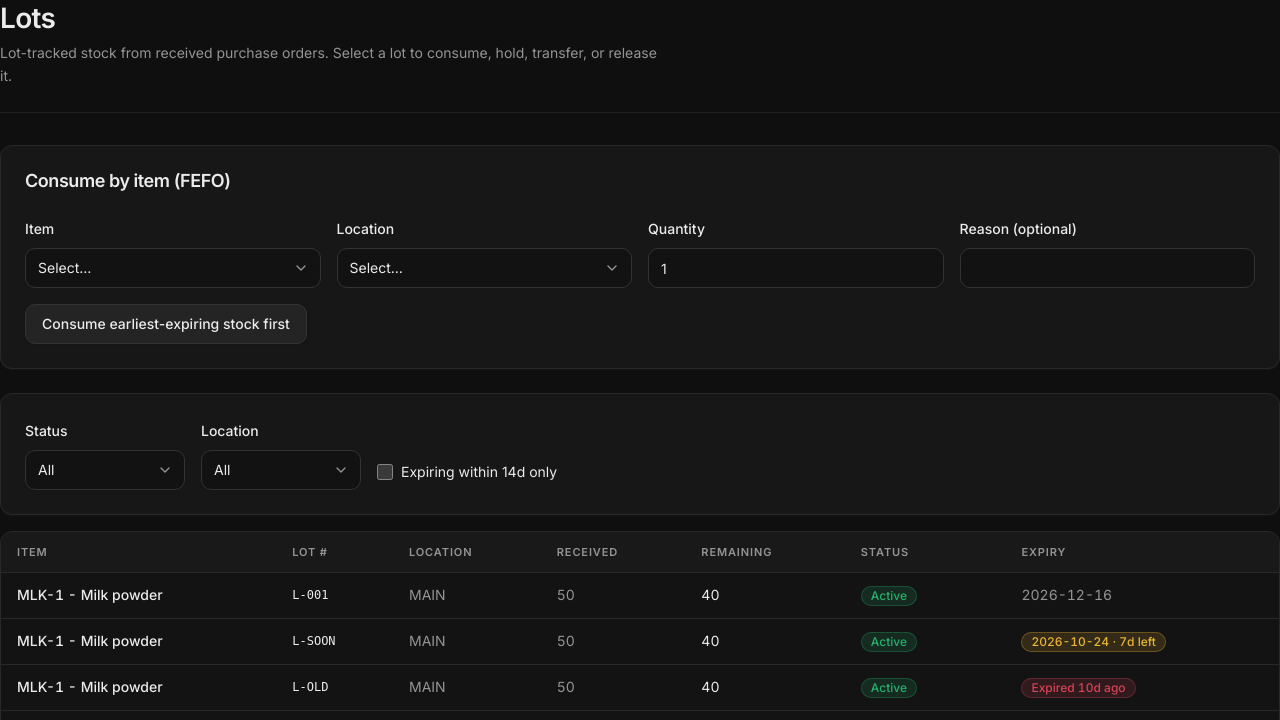
Test case: Lots › opens a lot and shows its header and transactions
Step 1. Click the text "L-001" → (310, 595), box [276,572,393,618]
(page scrolled)
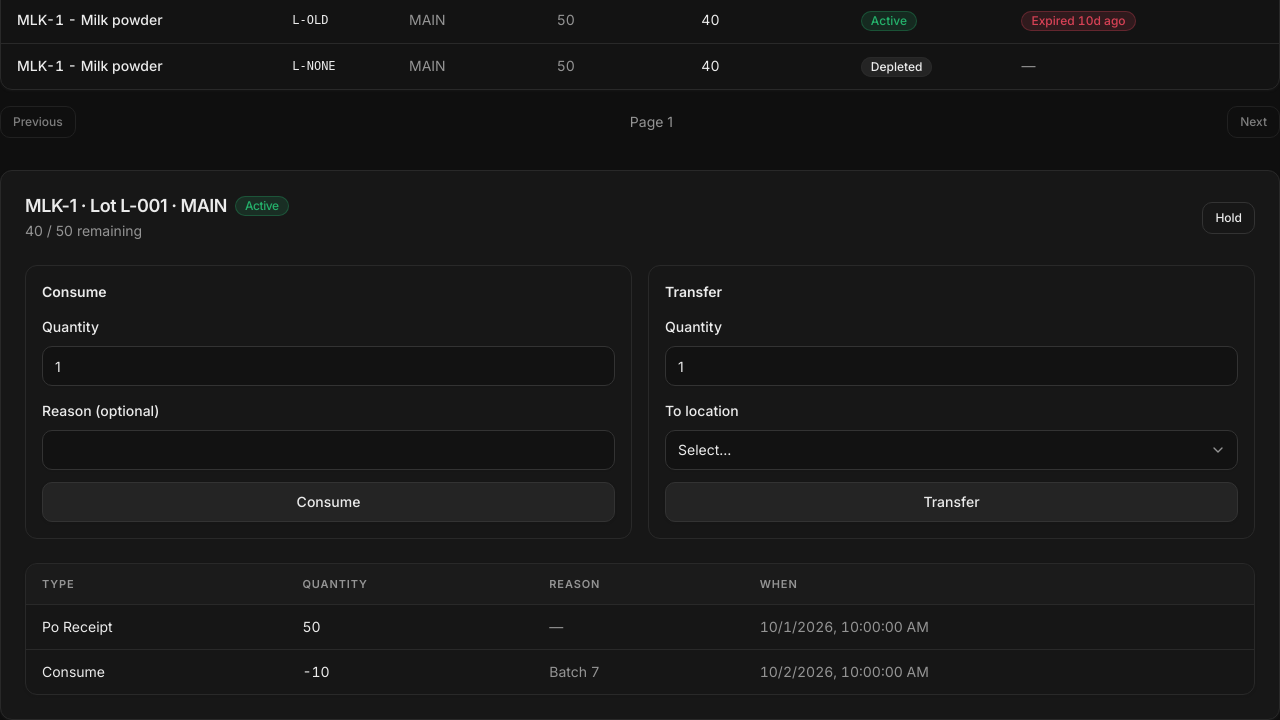
Result: the text "40 / 50 remaining" is shown at [25,222,142,239]
Result: the heading "MLK-1 · Lot L-001 · MAIN Active" is shown at [25,194,288,217]
Result: the text "Po Receipt" is shown at [26,604,286,649]
